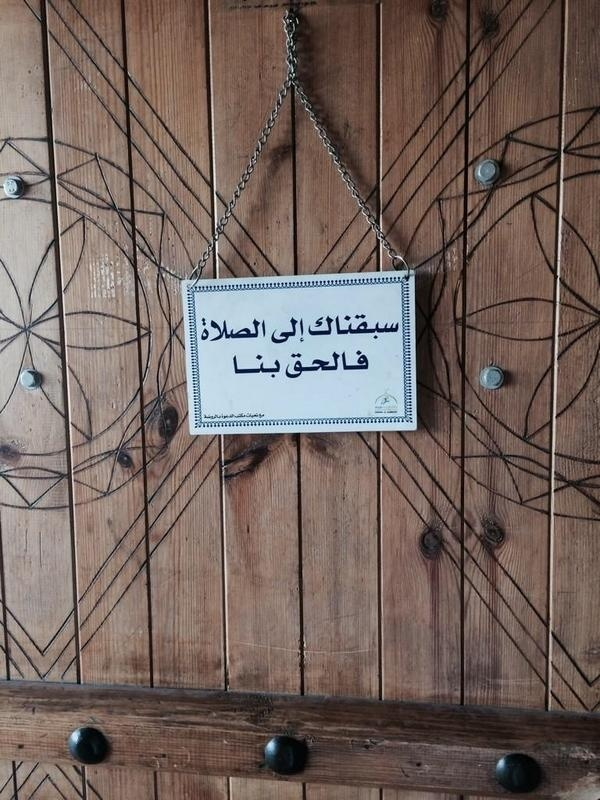text: (273, 316, 288, 347), (289, 316, 304, 347), (289, 350, 304, 380), (305, 350, 320, 380), (321, 350, 336, 380), (337, 350, 352, 380), (353, 350, 368, 380), (321, 313, 336, 342), (337, 313, 352, 342), (353, 313, 368, 342), (369, 313, 384, 342), (385, 313, 400, 342), (241, 352, 256, 379), (257, 352, 272, 379), (209, 318, 224, 342), (225, 318, 240, 342), (241, 318, 256, 342), (308, 313, 320, 342), (273, 352, 283, 379), (257, 318, 268, 342), (232, 352, 240, 379), (200, 318, 208, 342), (209, 413, 224, 421), (225, 413, 240, 421), (241, 413, 256, 421), (257, 413, 266, 421), (305, 316, 307, 347), (385, 410, 398, 414), (202, 413, 208, 421), (375, 410, 384, 414), (369, 350, 370, 380)
